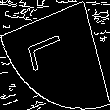L_E: (32, 32, 78, 78)
